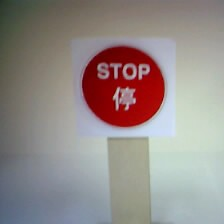stop: (71, 37, 172, 136)
